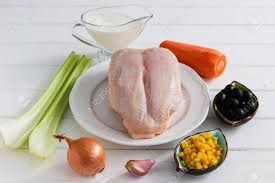Chicken: (110, 46, 183, 135)
